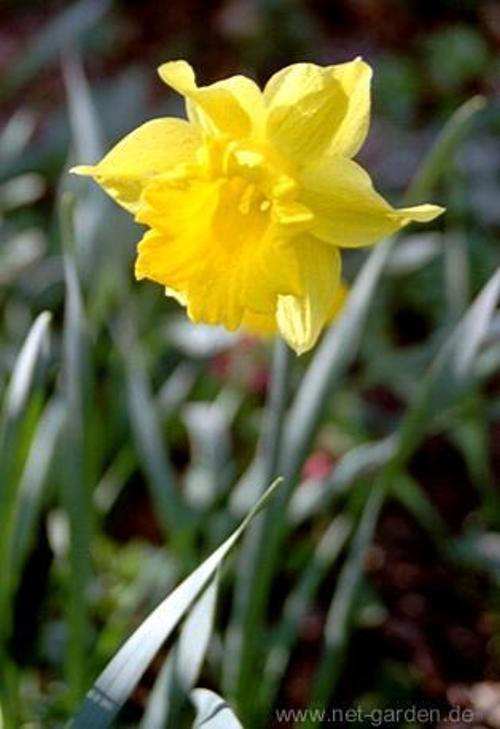flower1: (70, 55, 448, 356)
